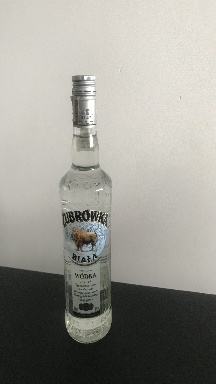butelka: (58, 71, 113, 346)
